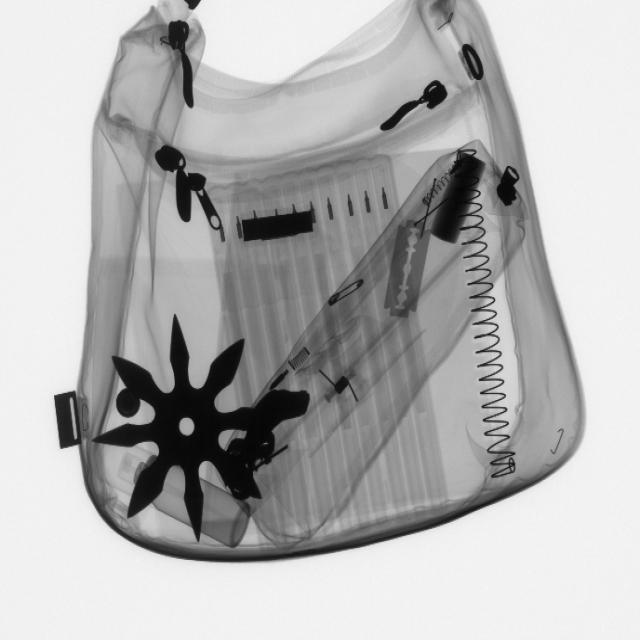BLADE: (381, 211, 433, 326)
SHURIKEN: (94, 312, 281, 542)
